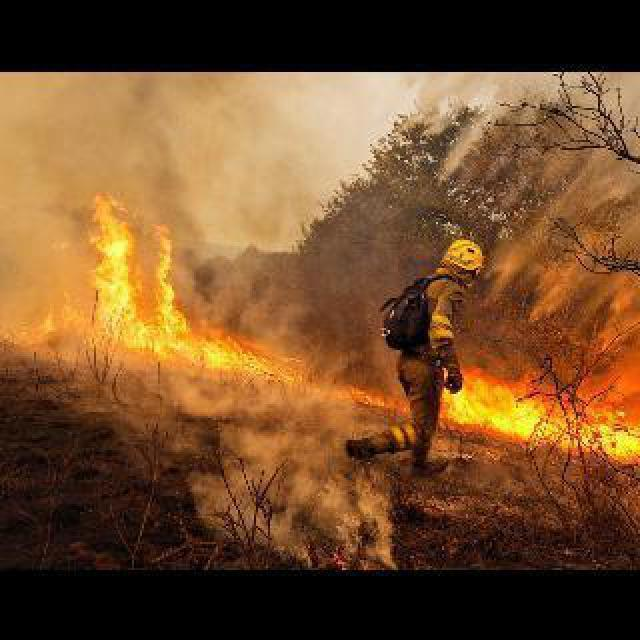fire: (460, 356, 640, 474), (82, 190, 204, 360)
smoke: (6, 78, 310, 380), (163, 373, 403, 570)
